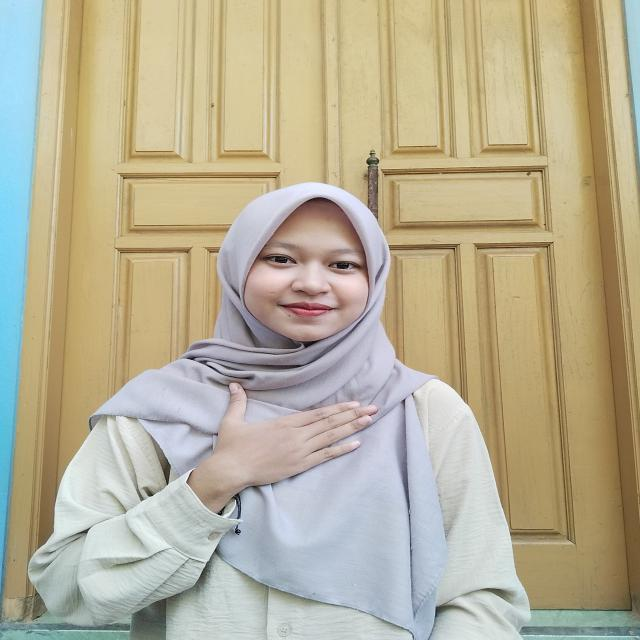tolong: (175, 377, 388, 518)
